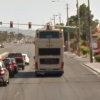Bus: (34, 26, 67, 79)
